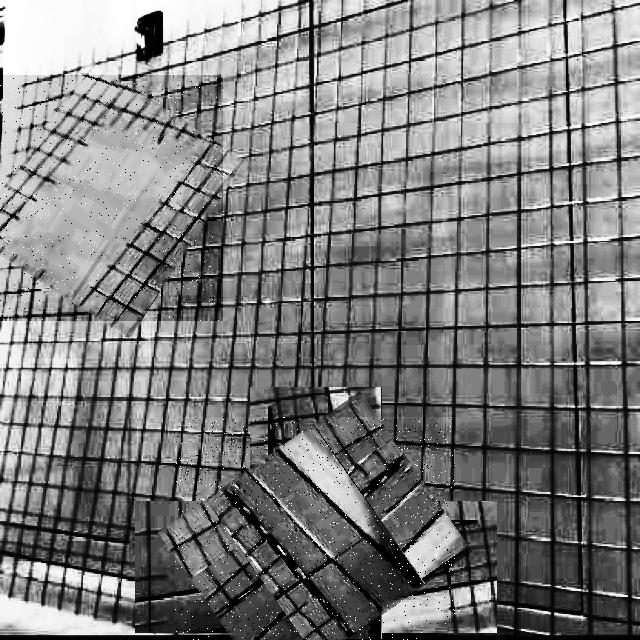anomaly-fence: (175, 417, 455, 640), (0, 75, 223, 321)
